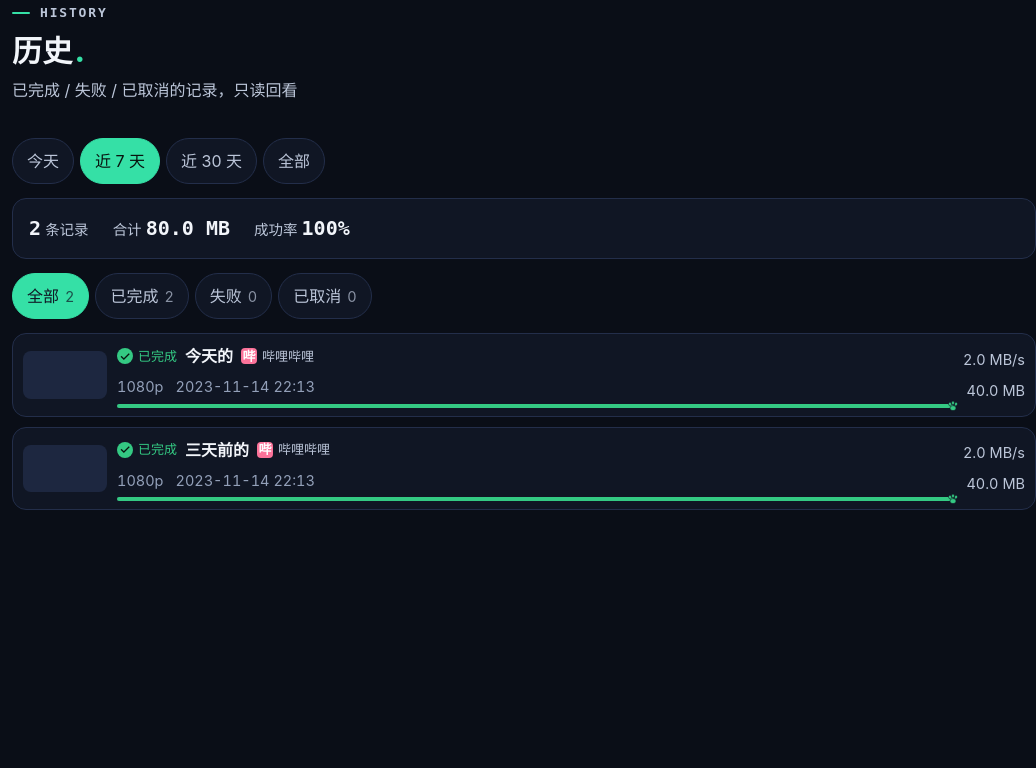
History 视图 › 日期筛选按自然日算：默认近 7 天只留今天与 3 天前，切「全部」三条都在
Expected: the number of list items with class "trow" is 2, x1=12 y1=333 x2=1035 y2=417; x1=12 y1=427 x2=1035 y2=510
Click the button "全部" at (294, 161), box x1=263 y1=138 x2=325 y2=184
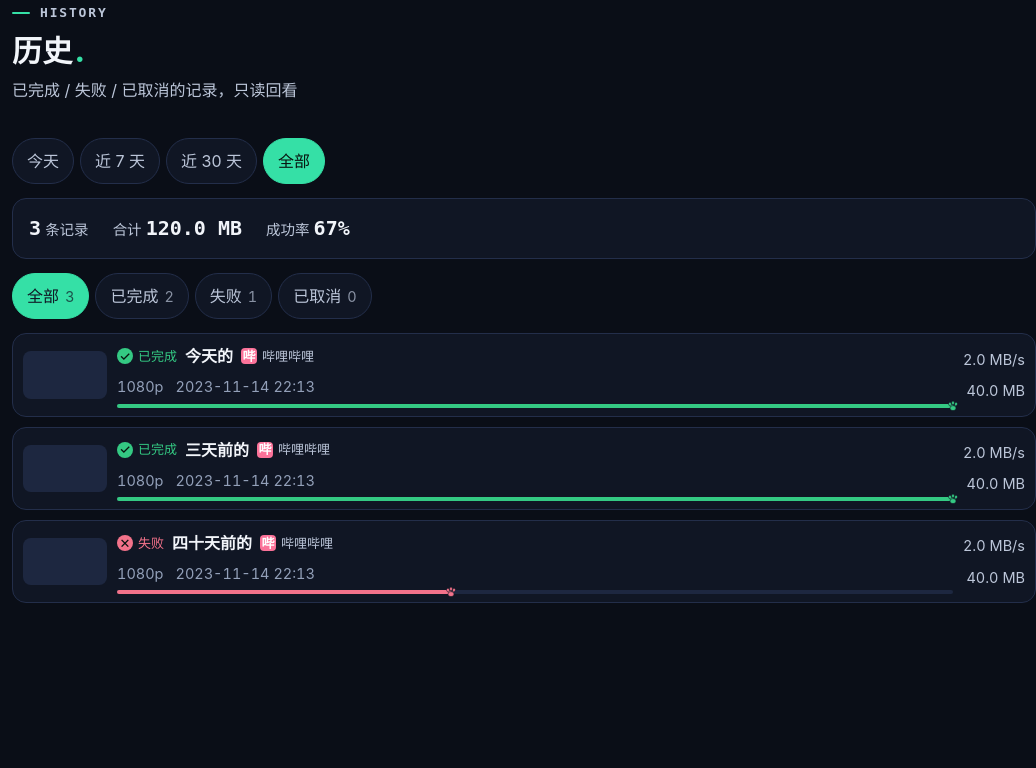
Expected: the number of list items with class "trow" is 3, x1=12 y1=333 x2=1035 y2=417; x1=12 y1=427 x2=1035 y2=510; x1=12 y1=520 x2=1035 y2=603
